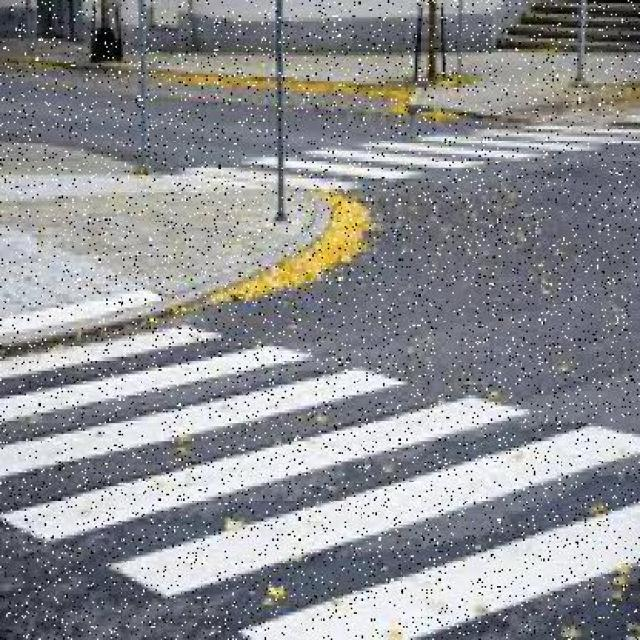crosswalk: (0, 313, 640, 639), (180, 126, 640, 196)
